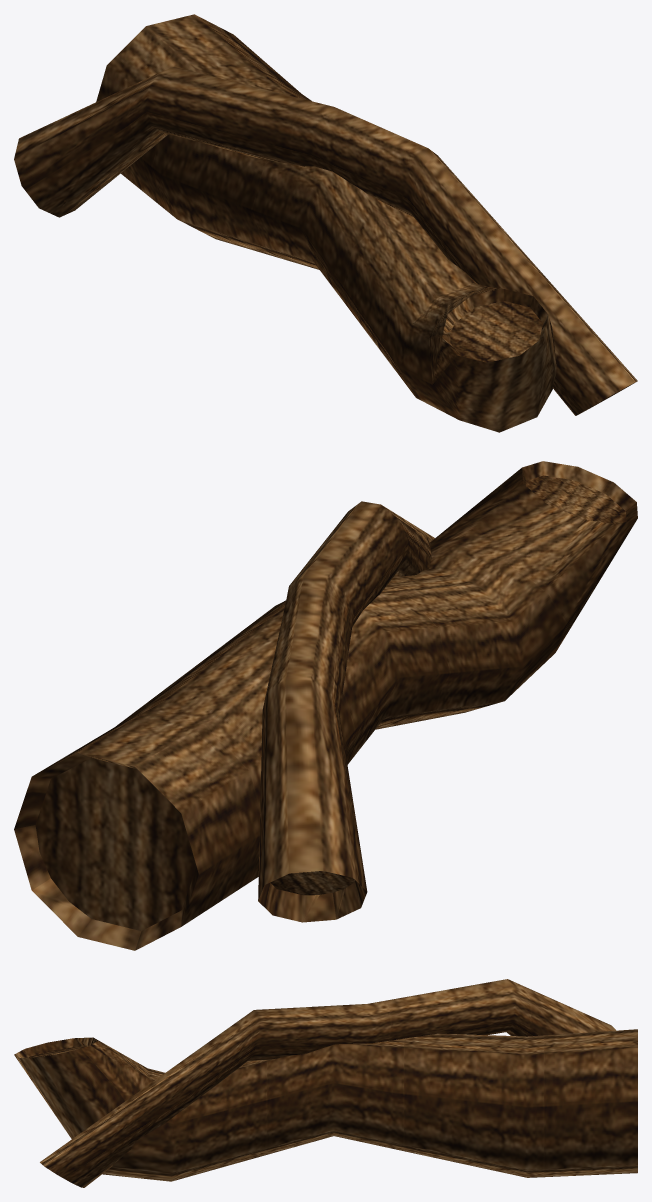
The model's file is VEG0210040.fbx.
3 renders of one model, top to bottom at view 1: azimuth 30°, elevation 25°; view 2: azimuth 150°, elevation 25°; view 3: azimuth 270°, elevation 25°, orthographic. The views are drawn at different scales.
Visible parts, largest first — view 1: smVEG0210040; view 2: smVEG0210040; view 3: smVEG0210040.
Part boxes in pixels (x1,y1,x2,y2): smVEG0210040: (14, 14, 637, 432); smVEG0210040: (14, 461, 637, 950); smVEG0210040: (14, 979, 637, 1187).
Bounding box in the file's own units: 81.34 × 58.25 × 195.
Materials: 1 (1 with a texture image).
